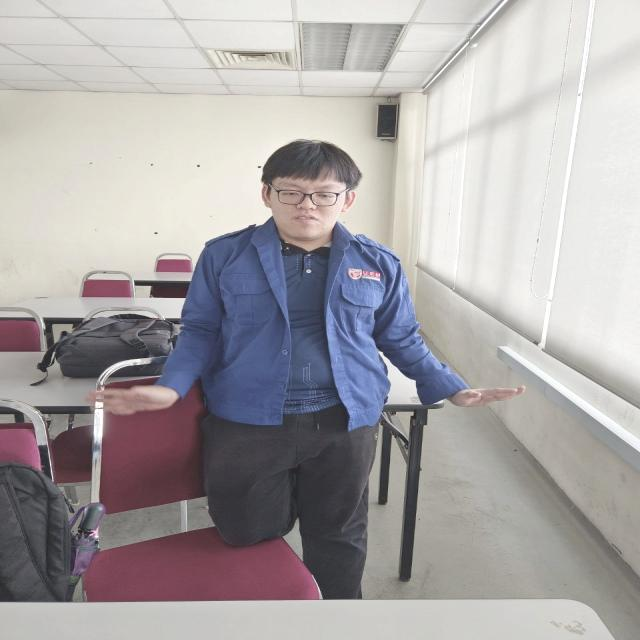person_with_labcoat: (90, 140, 523, 598)
